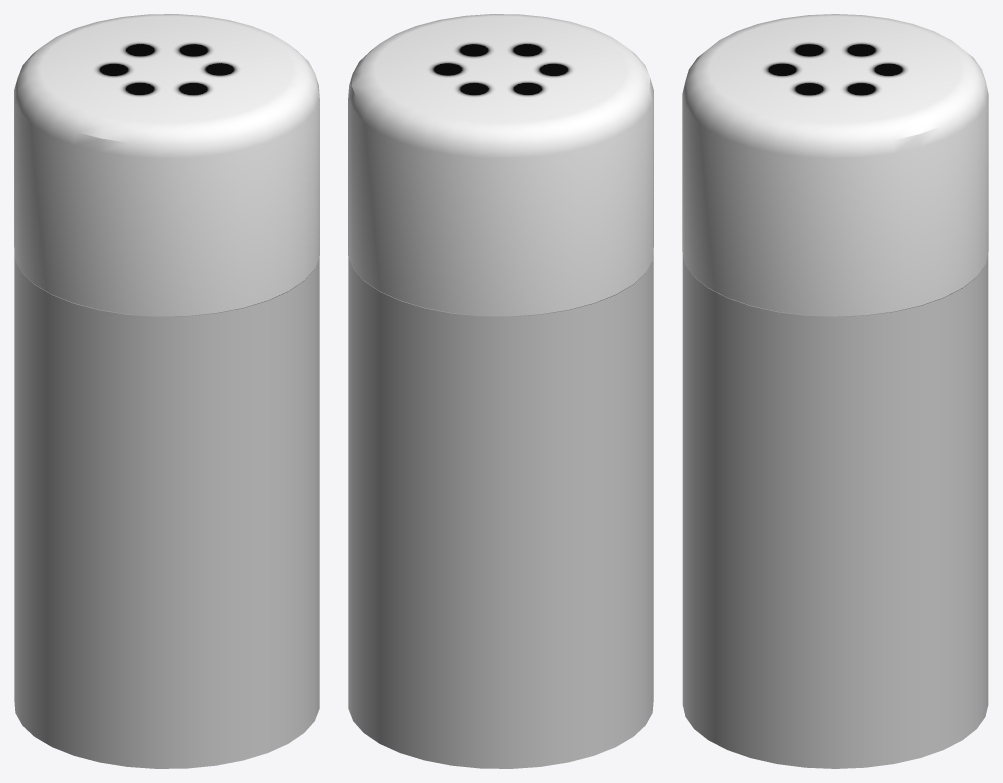
The model's file is SpiceContainer.fbx.
3 renders of one model, left to right at view 1: azimuth 30°, elevation 25°; view 2: azimuth 150°, elevation 25°; view 3: azimuth 270°, elevation 25°, orthographic.
Parts seen in each view (by area): view 1: Container, Cap; view 2: Container, Cap; view 3: Container, Cap.
Boxes of the visible parts, box(x1,y1,x2,y2) form: Container: box(14, 252, 319, 768); Cap: box(14, 14, 319, 316); Container: box(348, 252, 653, 768); Cap: box(348, 14, 653, 316); Container: box(682, 254, 988, 768); Cap: box(682, 14, 988, 316).
Size of the model in its own units: 200 by 458 by 200.
